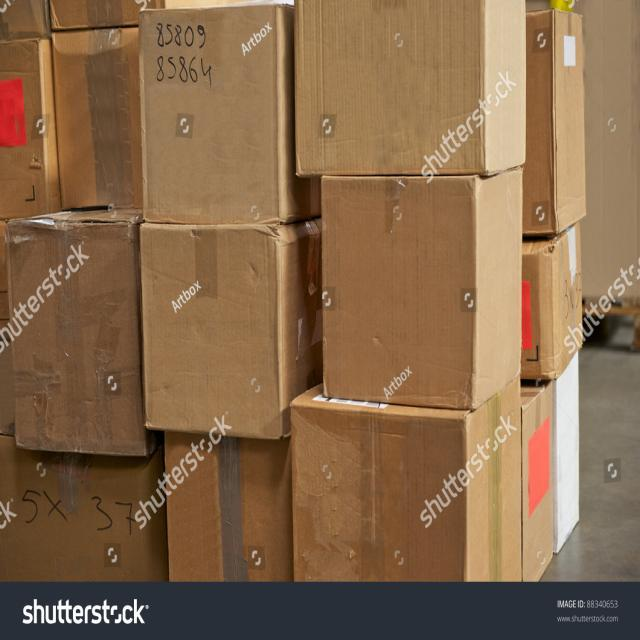BoxFace: (324, 176, 478, 408), (297, 0, 487, 174), (294, 393, 468, 582), (9, 221, 144, 458), (140, 224, 284, 443), (142, 5, 284, 221), (0, 448, 152, 584), (164, 432, 291, 584), (54, 26, 146, 202)
